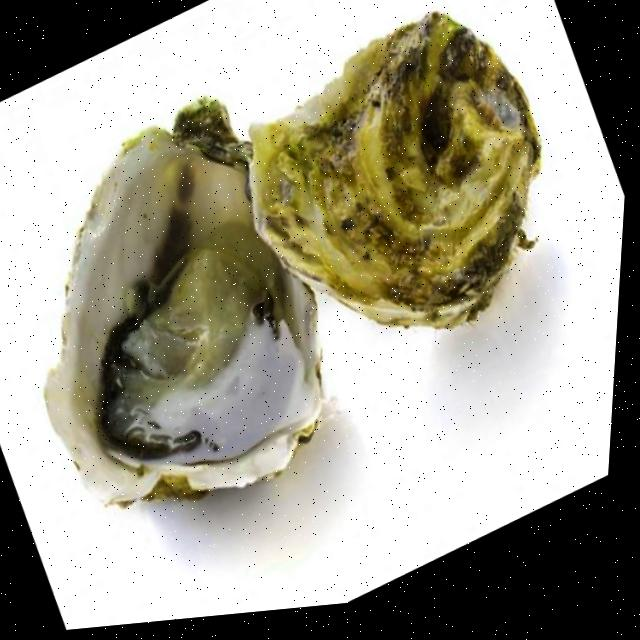Oyster-Indeterminate: (247, 11, 542, 330)
Oyster-Open: (44, 98, 326, 511)
